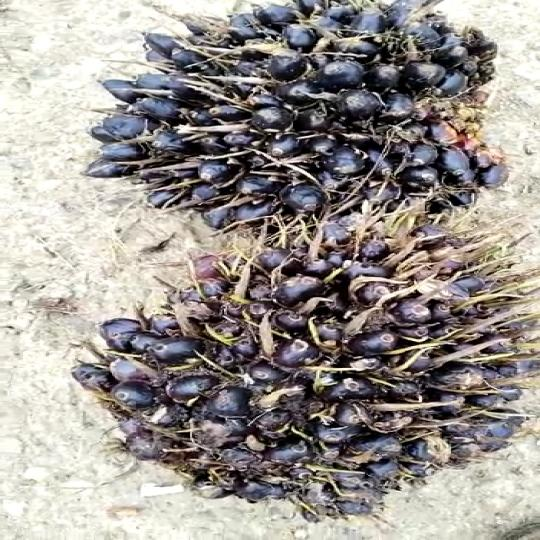mentah: (65, 257, 540, 529), (96, 0, 524, 232)
